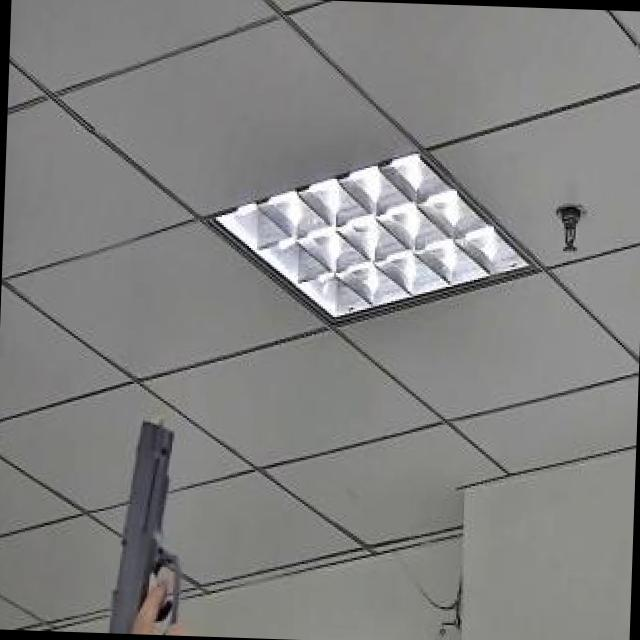Guns: (69, 384, 236, 637)
